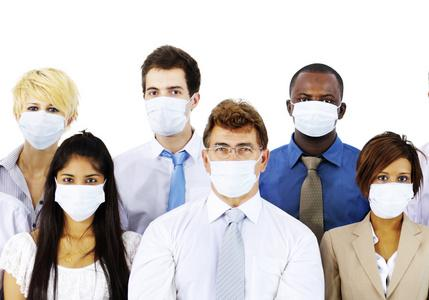mask: (206, 112, 269, 202), (141, 56, 196, 141), (361, 143, 417, 224), (15, 76, 71, 151), (54, 145, 107, 221), (293, 60, 341, 135)
